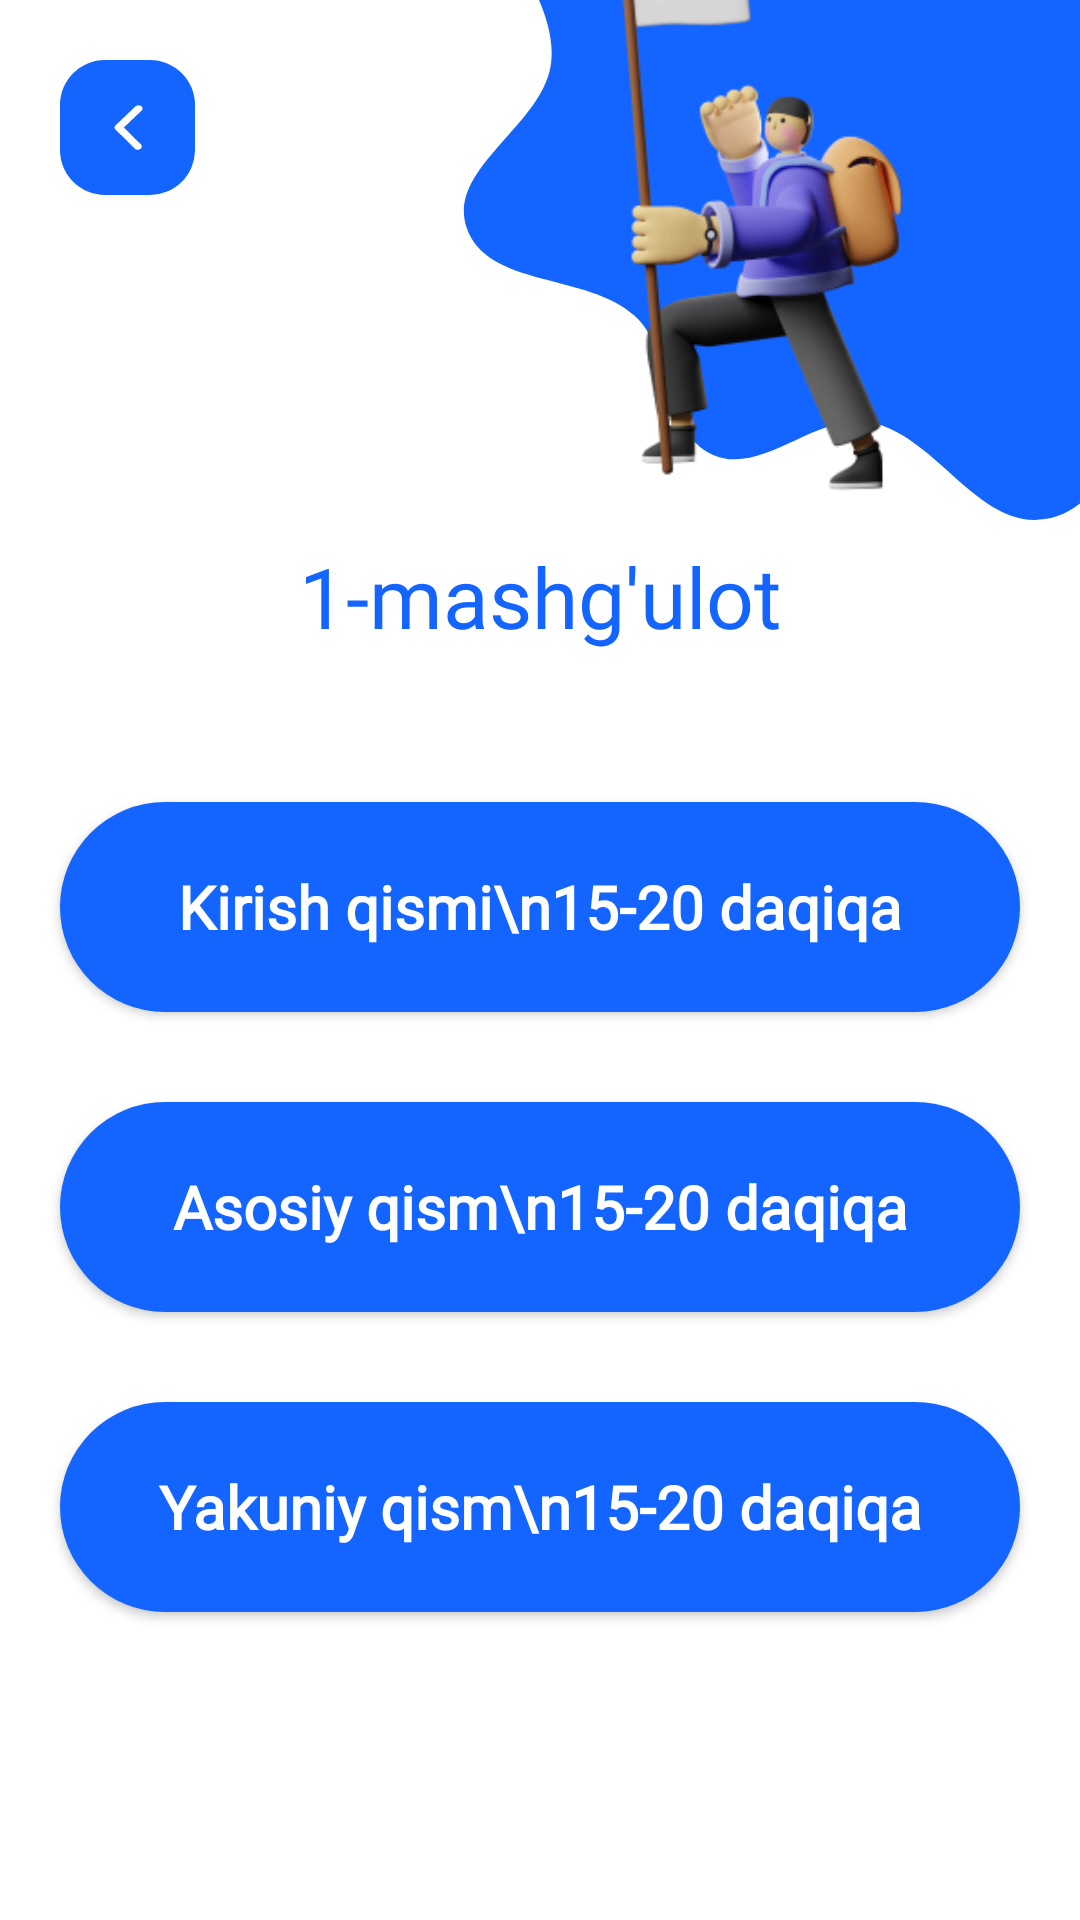

Point at icon controls on the screen. Image size 1080*1920, points as point (x, y).
left arrow: point (127, 127)
